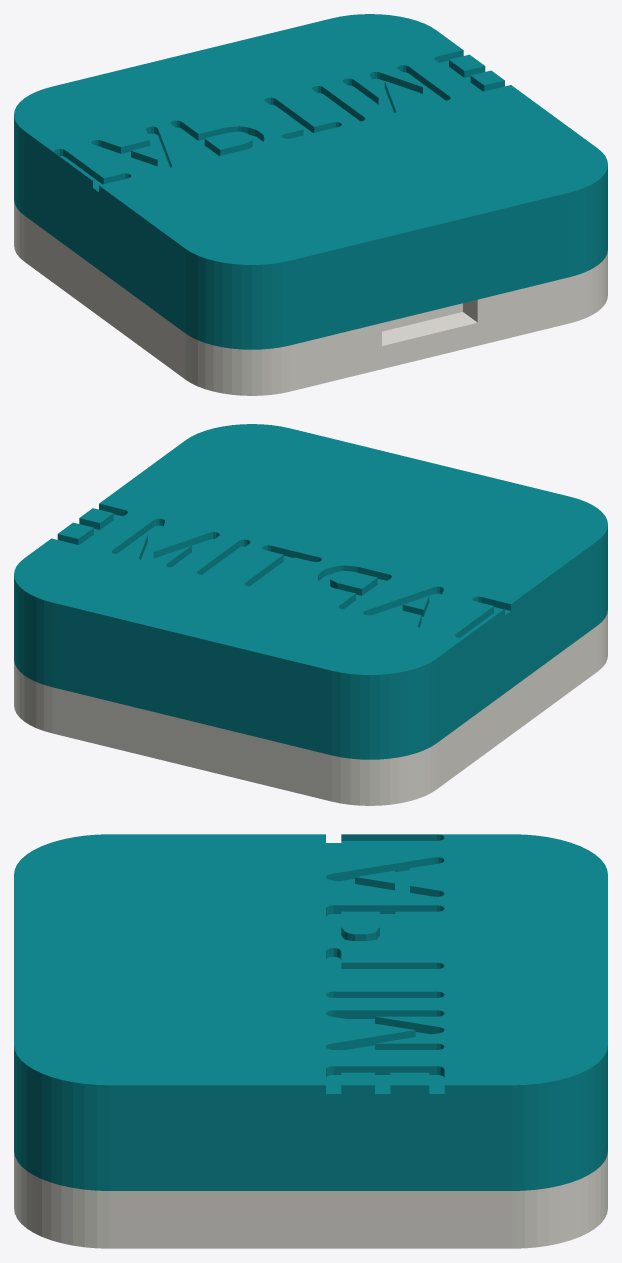
Rendered from taptime-solid-case.glb.
3 renders of one model, top to bottom at view 1: azimuth 30°, elevation 25°; view 2: azimuth 150°, elevation 25°; view 3: azimuth 270°, elevation 25°, orthographic. The views are drawn at different scales.
Parts seen in each view (by area): view 1: Front case — 11 mm, Rear case — 6 mm; view 2: Front case — 11 mm, Rear case — 6 mm; view 3: Front case — 11 mm, Rear case — 6 mm.
Part boxes in pixels (x1=…): Front case — 11 mm: x1=14, y1=14, x2=607, y2=349; Rear case — 6 mm: x1=14, y1=200, x2=607, y2=395; Front case — 11 mm: x1=14, y1=424, x2=607, y2=759; Rear case — 6 mm: x1=14, y1=610, x2=607, y2=805; Front case — 11 mm: x1=14, y1=834, x2=607, y2=1190; Rear case — 6 mm: x1=14, y1=1152, x2=607, y2=1248.
Size of the model in its own units: 56 by 17 by 56.
